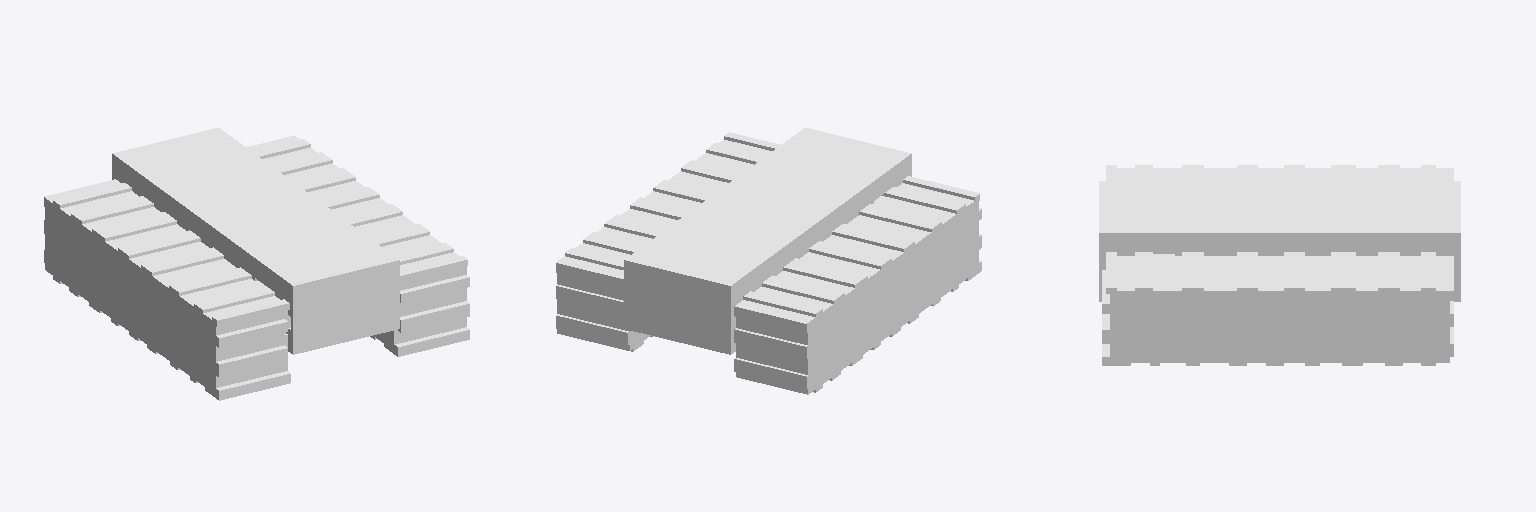
The model's file is TankWheels3.obj.
3 views of the same model, side by side, from view 1: azimuth 30°, elevation 25°; view 2: azimuth 150°, elevation 25°; view 3: azimuth 270°, elevation 25° (orthographic).
Parts seen in each view (by area): view 1: object 1; view 2: object 1; view 3: object 1.
Part boxes in pixels (bbox=[...]): object 1: bbox=[44, 127, 469, 400]; object 1: bbox=[556, 127, 981, 394]; object 1: bbox=[1099, 165, 1460, 365].
Size of the model in its own units: 8 by 3 by 10.